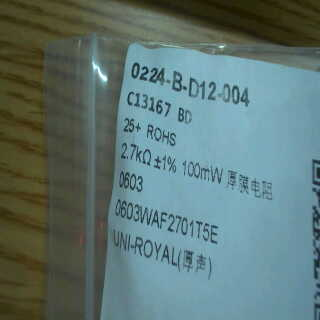2.7kR: (117, 138, 153, 171)
